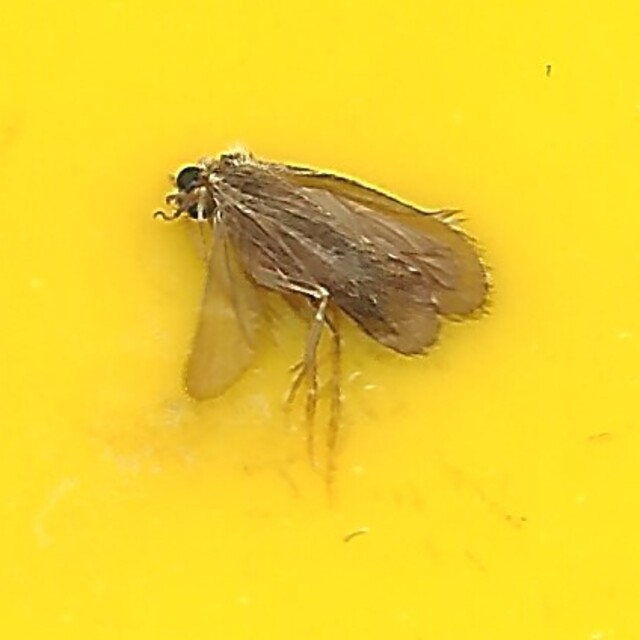Trichoptera: (151, 149, 489, 491)
